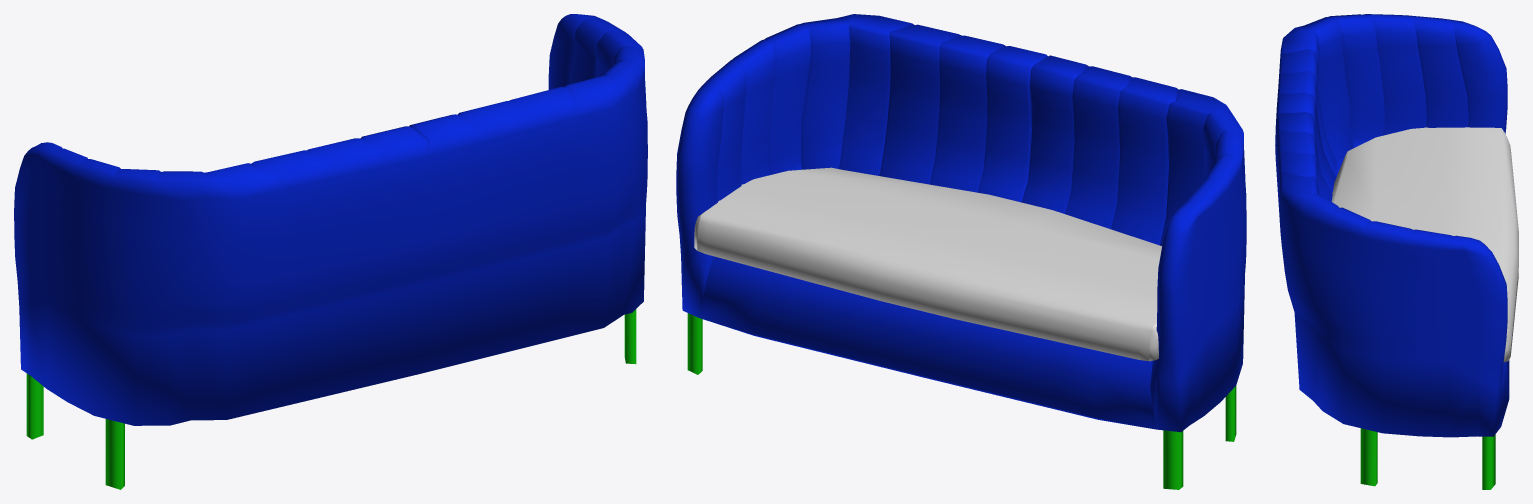
File: legardSofa.fbx
3 renders of one model, left to right at view 1: azimuth 30°, elevation 25°; view 2: azimuth 150°, elevation 25°; view 3: azimuth 270°, elevation 25°, orthographic. The views are drawn at different scales.
Visible parts, largest first — view 1: sofa; view 2: sofa, pillow.sofa; view 3: sofa, pillow.sofa.
Boxes of the visible parts, box(x1,y1,x2,y2) form: sofa: box(14, 14, 647, 489); sofa: box(676, 14, 1246, 489); pillow.sofa: box(694, 167, 1161, 361); sofa: box(1275, 14, 1509, 489); pillow.sofa: box(1331, 127, 1518, 362).
Bounding box in the file's own units: 646 × 361 × 296.
